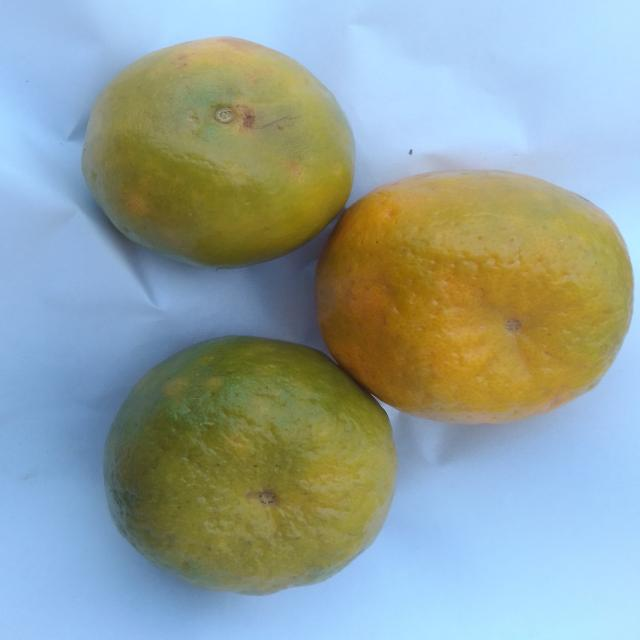orange: (317, 171, 632, 423), (105, 337, 396, 594), (82, 37, 354, 266)
